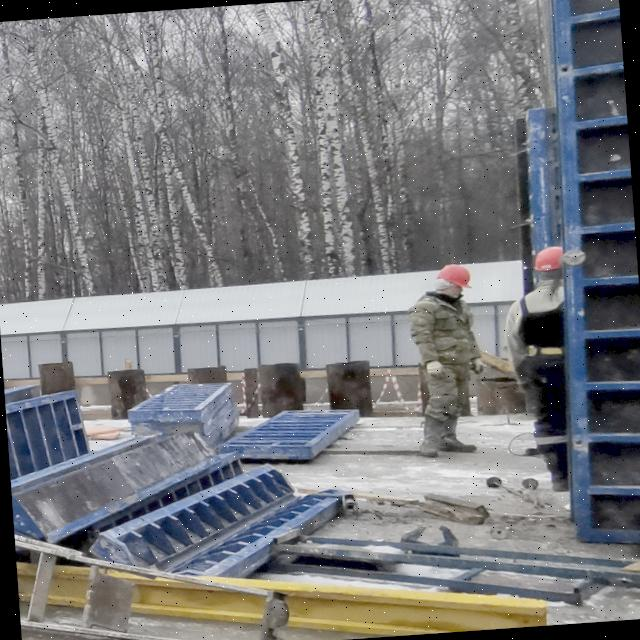Helmet: (433, 264, 475, 294), (533, 246, 565, 278)
NoJacket: (515, 275, 570, 383), (423, 290, 473, 378)
